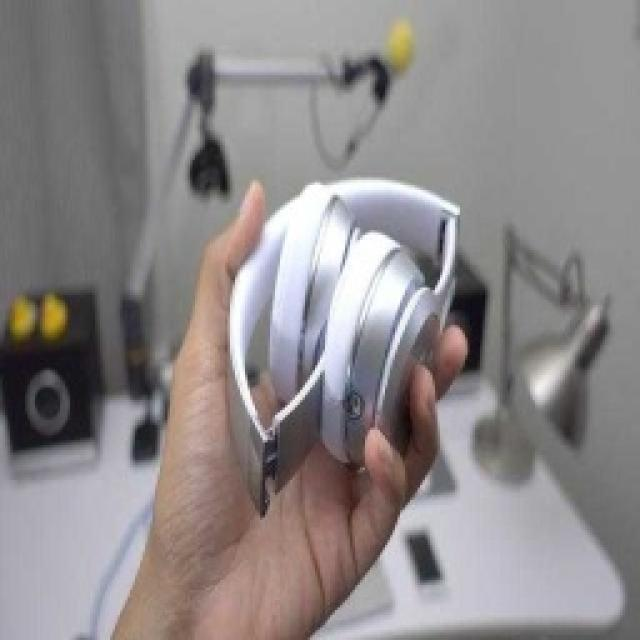headphones: (222, 173, 460, 515)
